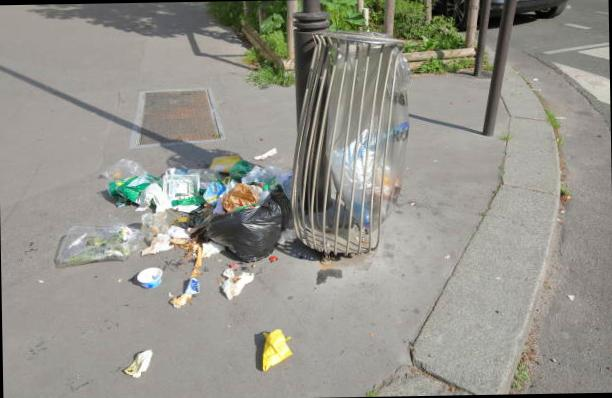trash: (72, 141, 288, 298), (50, 220, 132, 265), (164, 246, 216, 314), (246, 316, 302, 376), (218, 258, 262, 306), (121, 340, 158, 386), (134, 258, 173, 292)
trash_can_overflow: (68, 6, 430, 319)
